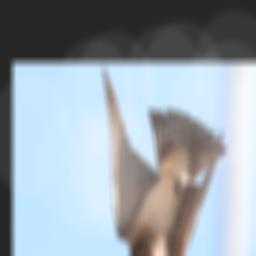Swallow: (102, 65, 226, 256)
